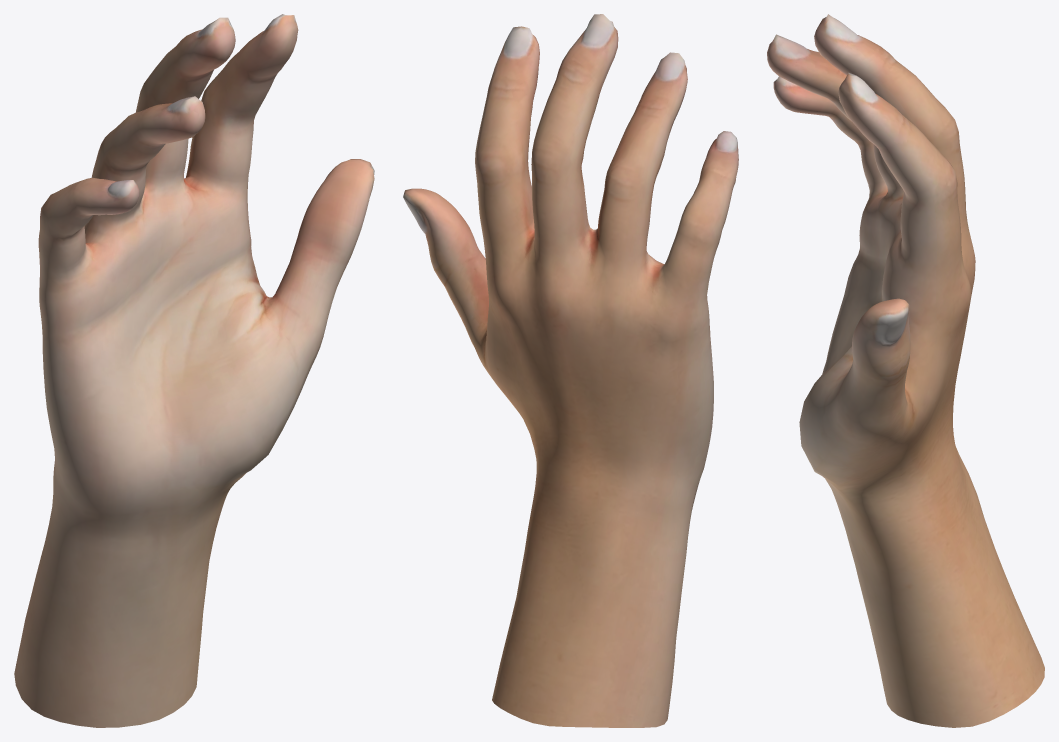
The model's file is female_hand.glb.
3 views of the same model, side by side, from view 1: azimuth 30°, elevation 25°; view 2: azimuth 150°, elevation 25°; view 3: azimuth 270°, elevation 25° (orthographic). The views are drawn at different scales.
Visible parts, largest first — view 1: Object_2; view 2: Object_2; view 3: Object_2.
Part boxes in pixels (x1=…): Object_2: x1=14, y1=14, x2=374, y2=727; Object_2: x1=403, y1=14, x2=738, y2=727; Object_2: x1=767, y1=14, x2=1044, y2=727.
Bounding box in the file's own units: 12.24 × 24.96 × 8.92.
1 material, 1 textured.
